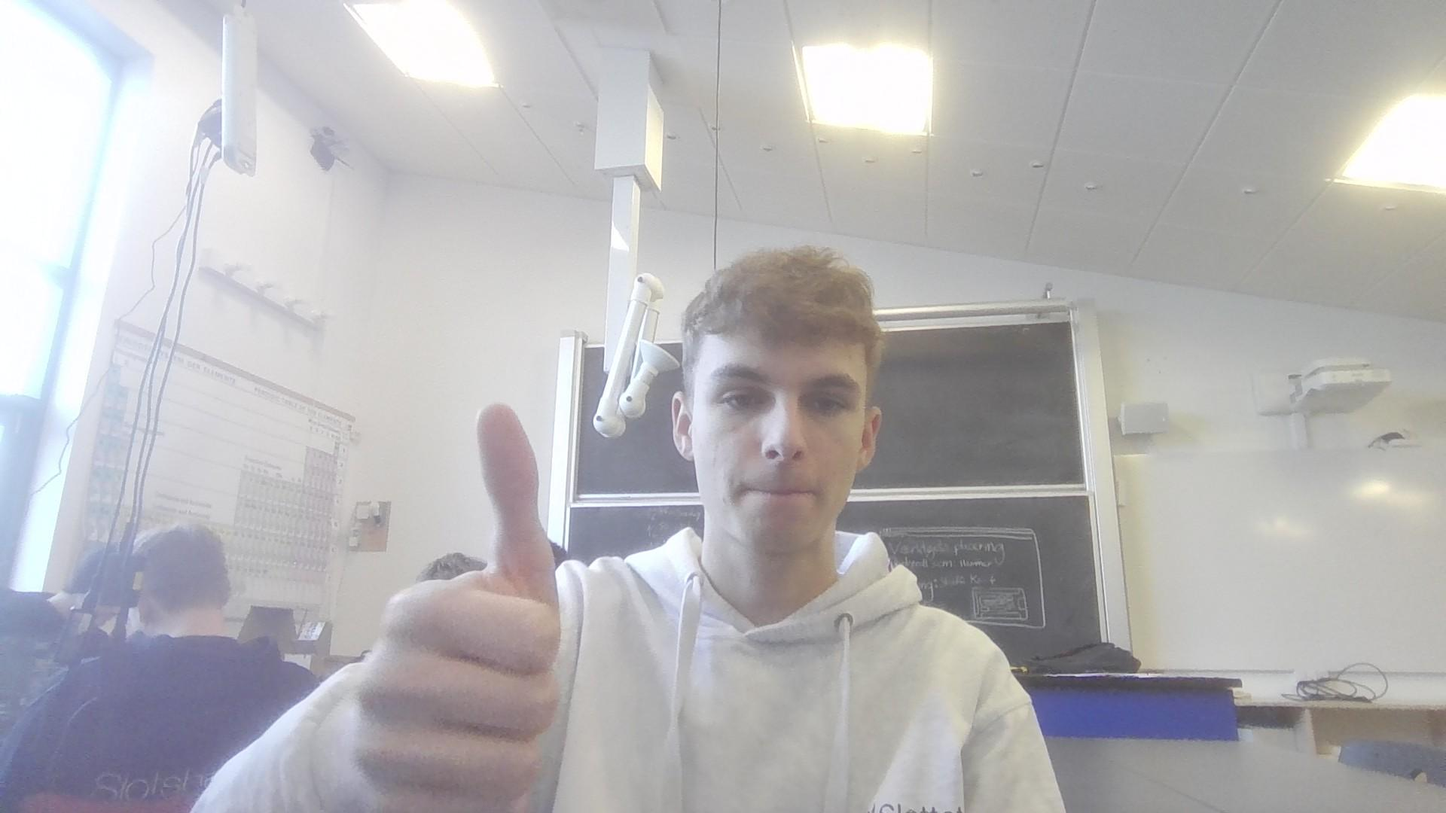thumbs up: (343, 401, 565, 803)
